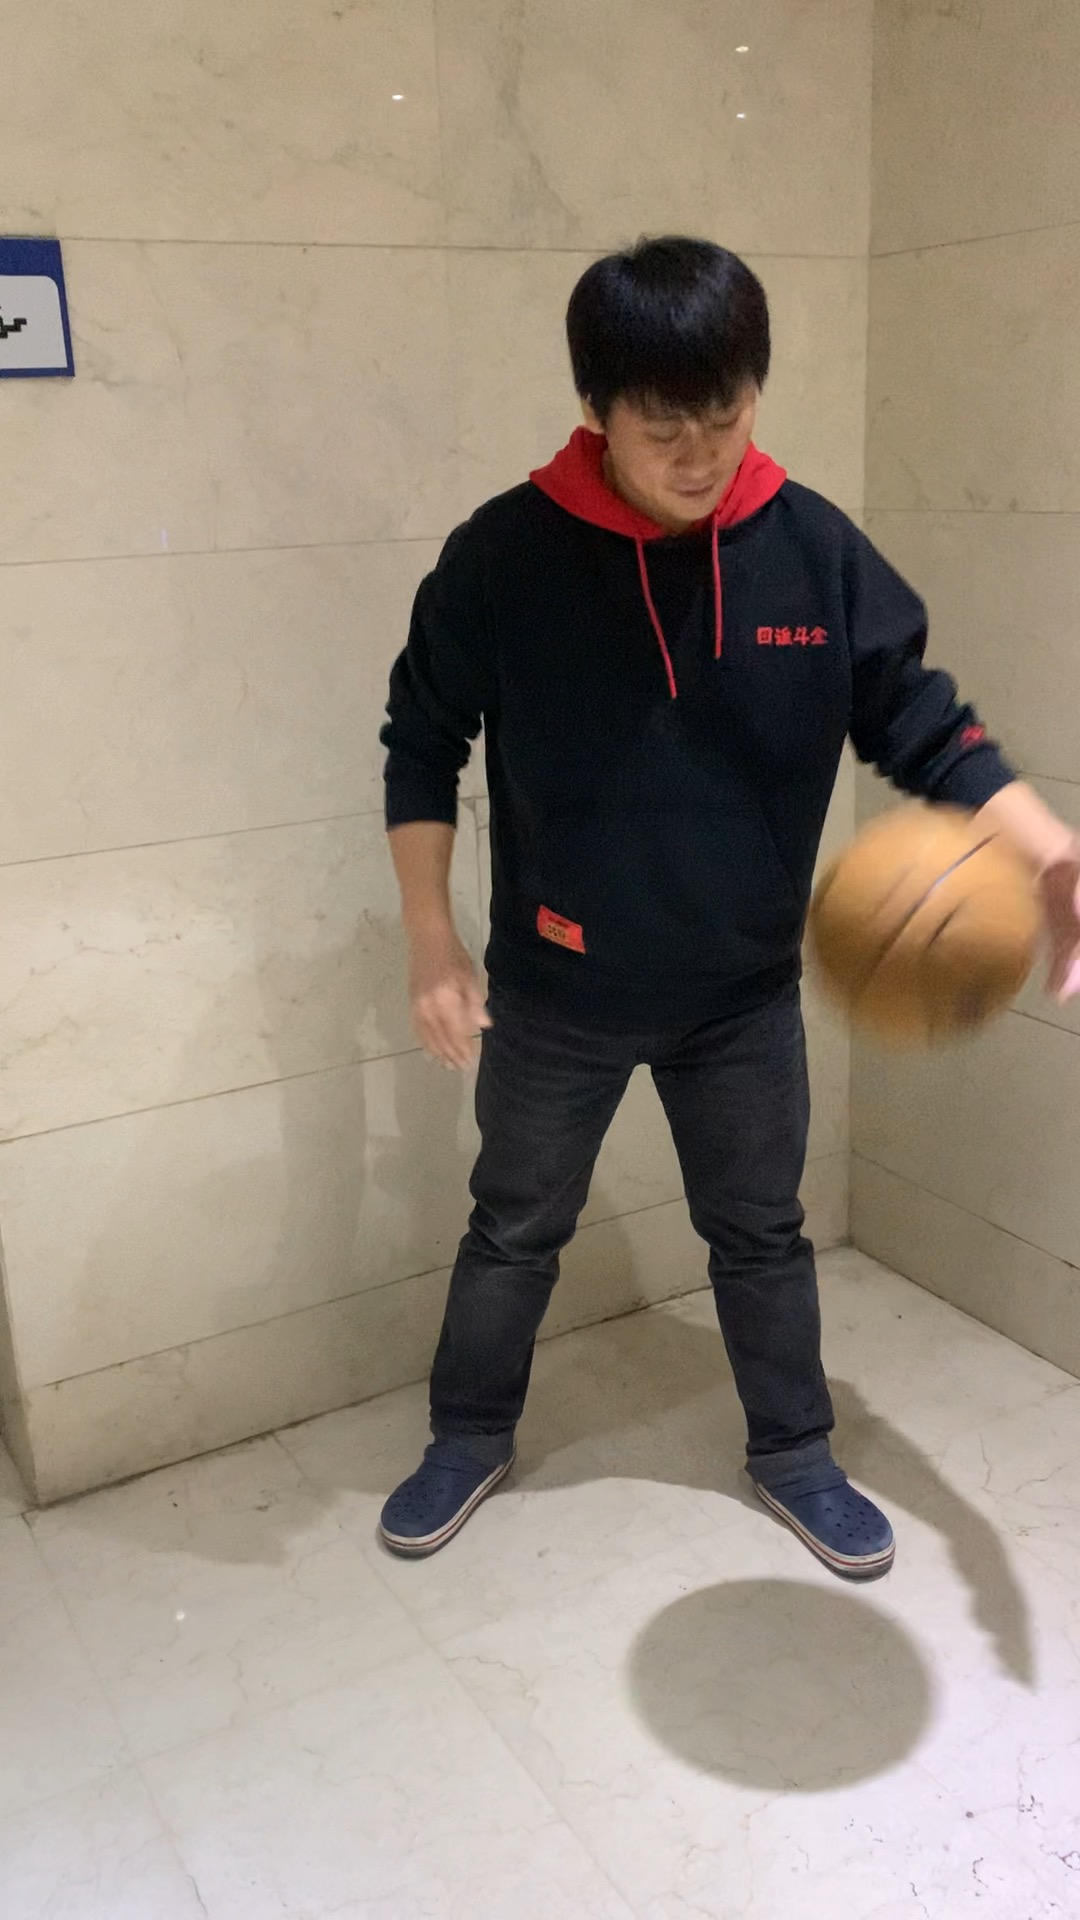ball: (796, 799, 1048, 1050)
